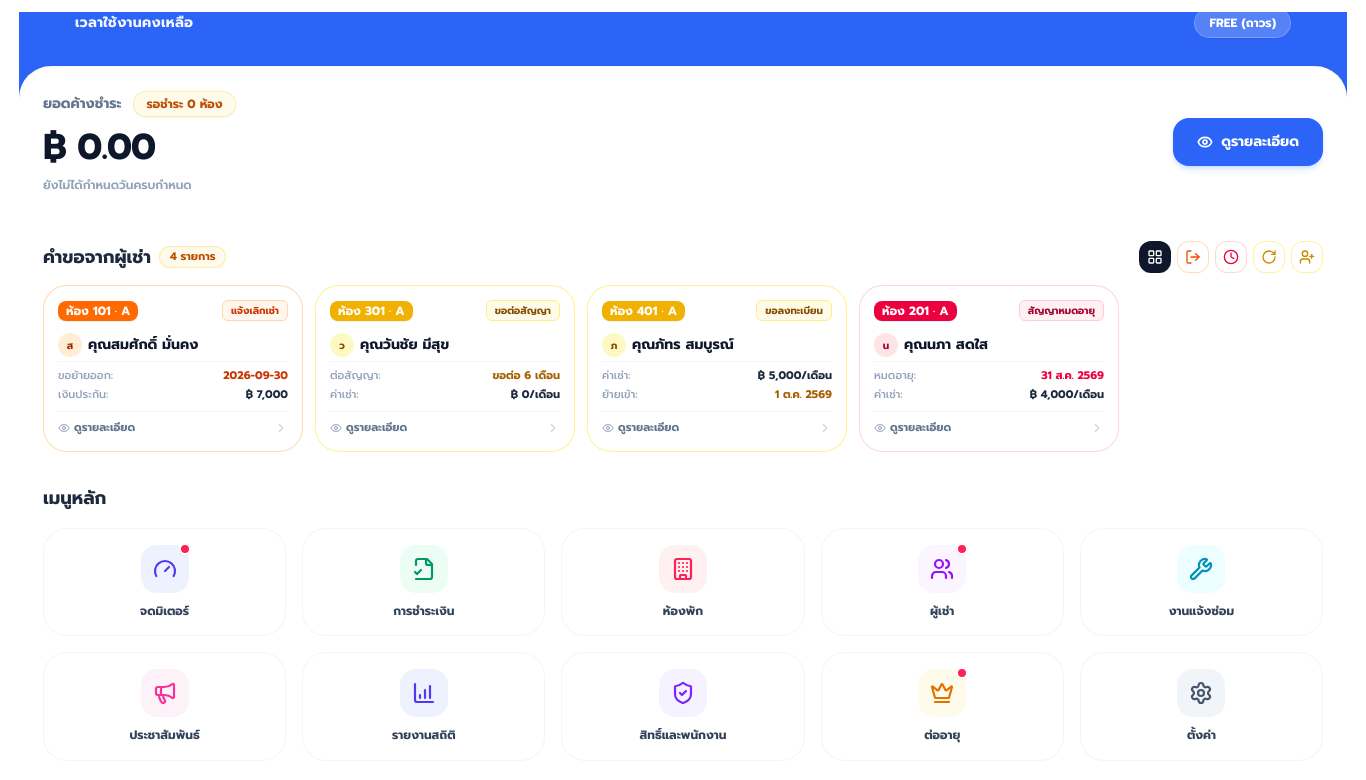
OwnerDashboard Tenant Requests Horizontal Feed (Screenshot 2 Parity) › renders all 4 request categories matching Screenshot 2 with badge count and category pills
Check: the text with test id "pending-requests-badge" reads "4 รายการ", box [159, 246, 226, 268]
Check: the number of buttons with test id "tenant-request-item" is 4, box [43, 285, 303, 452]; [315, 285, 575, 452]; [587, 285, 847, 452]; [859, 285, 1119, 452]
Test category filter tabs: click "แจ้งเลิกเช่า" filter
Click the button titled "แจ้งเลิกเช่า (1)" at (1193, 257), box [1177, 241, 1209, 273]
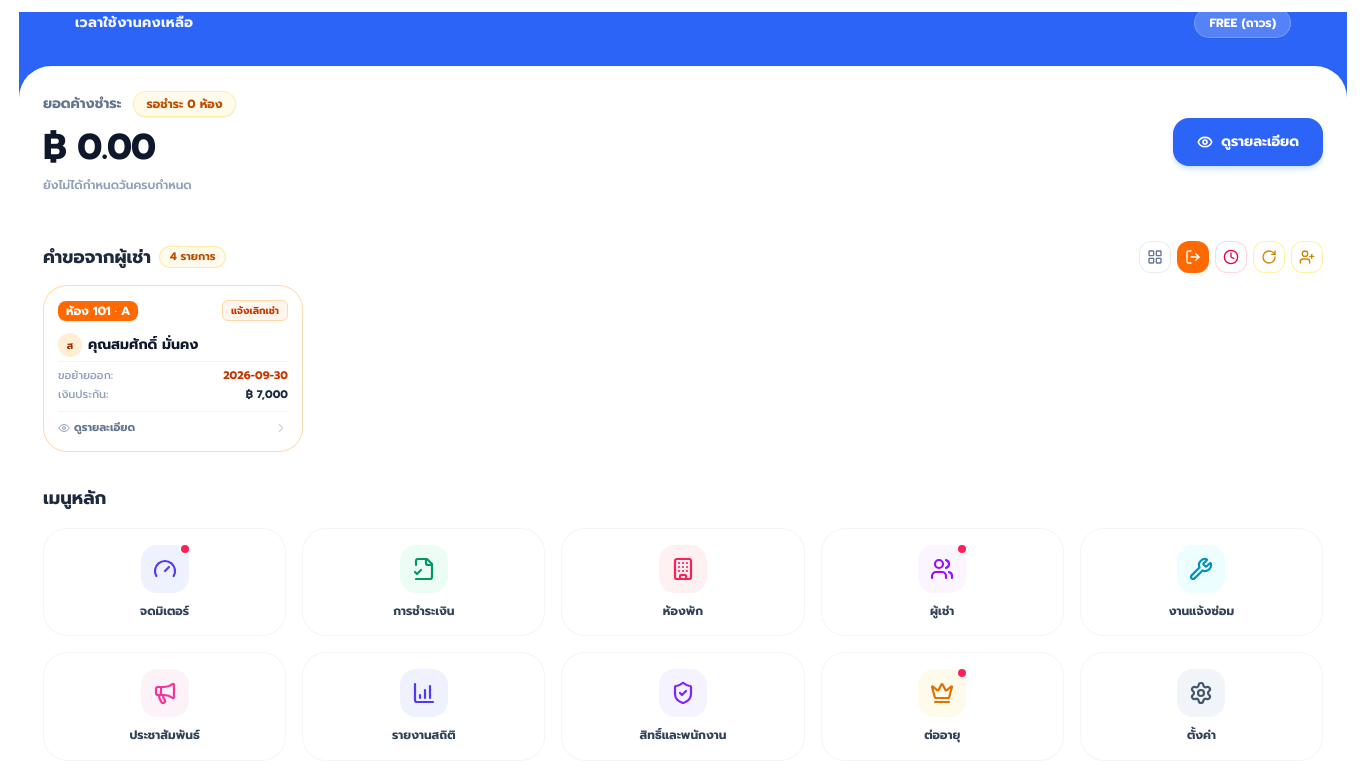
Check: the number of buttons with test id "tenant-request-item" is 1, box [43, 285, 303, 452]
Check: the button "ห้อง 201 · A" is gone
Reset filter to all
Click the button titled "ทั้งหมด (4)" at (1155, 257), box [1139, 241, 1171, 273]
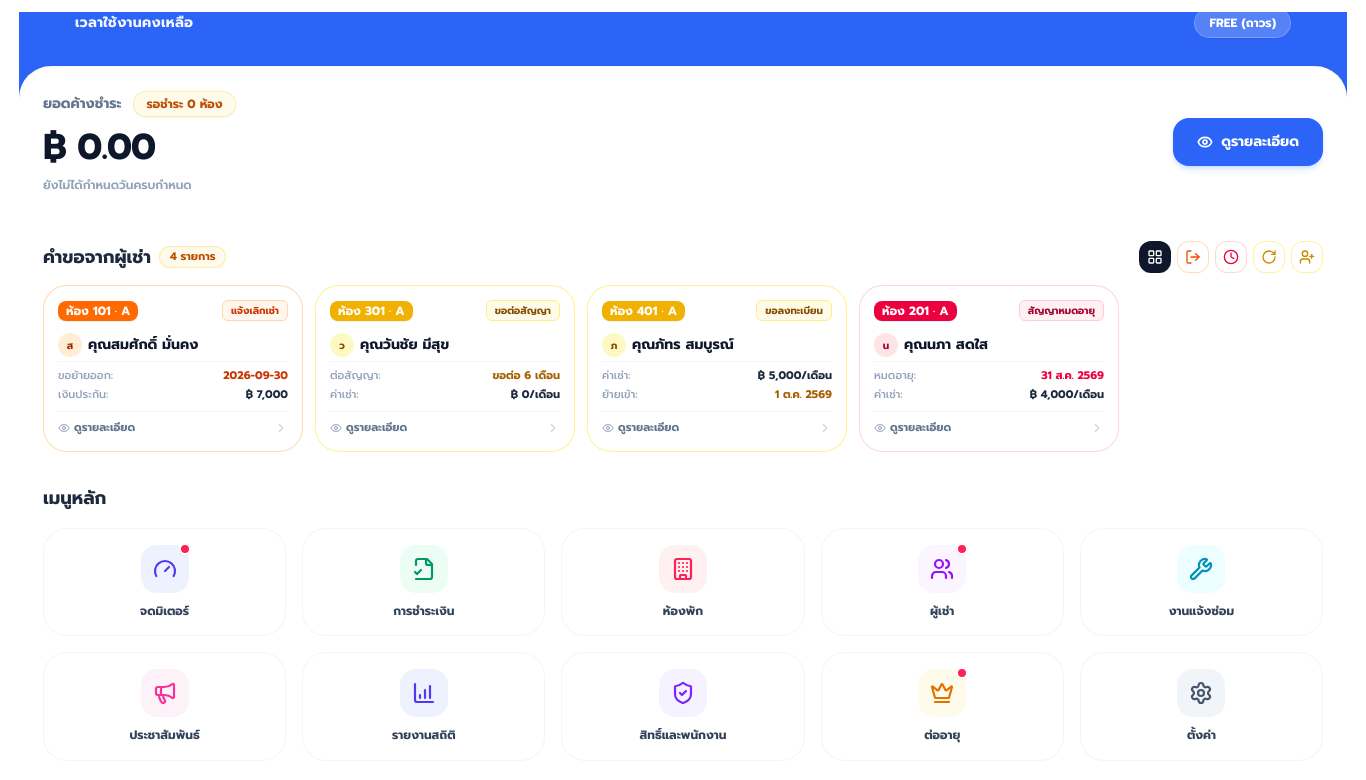
Check: the number of buttons with test id "tenant-request-item" is 4, box [43, 285, 303, 452]; [315, 285, 575, 452]; [587, 285, 847, 452]; [859, 285, 1119, 452]
